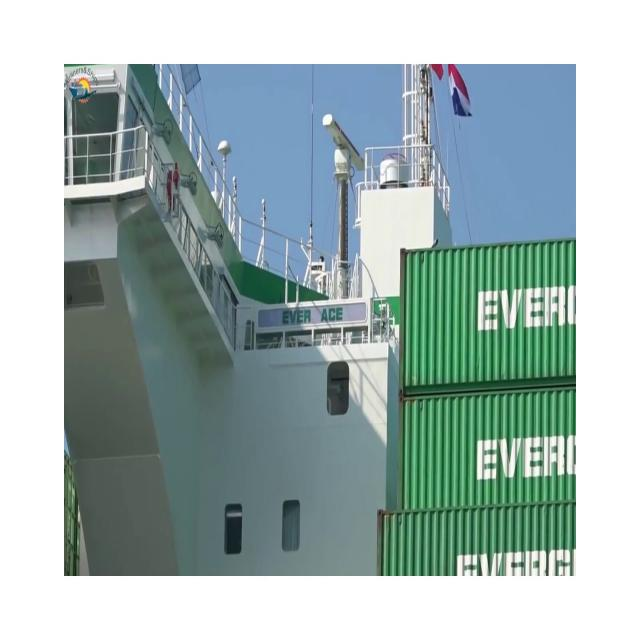OCR: (470, 270, 574, 342), (270, 300, 352, 338)
